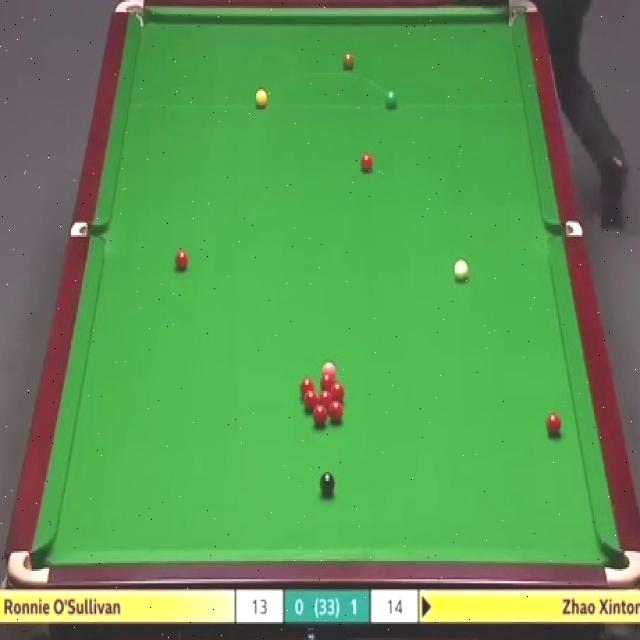black-ball: (318, 470, 335, 499)
brown-ball: (342, 52, 355, 72)
green-ball: (384, 90, 399, 112)
pink-ball: (321, 360, 337, 373)
red-ball: (545, 412, 562, 438), (329, 402, 343, 425), (174, 251, 188, 274), (320, 372, 336, 390), (314, 404, 327, 426), (330, 382, 343, 404), (300, 378, 314, 398), (317, 389, 333, 406), (361, 152, 374, 172), (304, 392, 318, 410), (254, 522, 255, 523)
white-ball: (452, 256, 470, 282)
yellow-ball: (255, 89, 268, 109)
